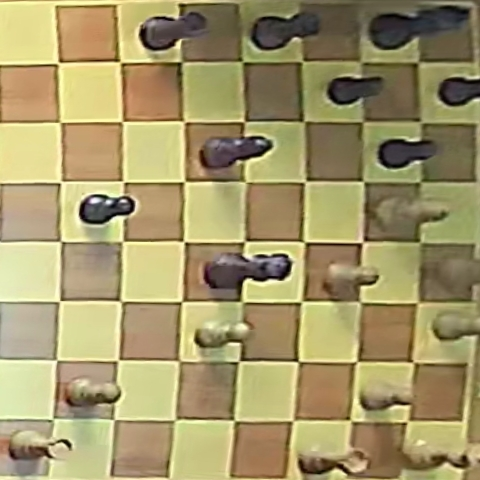black-king: (370, 5, 469, 50)
black-pawn: (202, 136, 272, 169), (379, 138, 440, 169), (327, 75, 386, 106), (80, 194, 134, 225), (439, 75, 480, 107)
black-queen: (204, 252, 290, 288)
black-rook: (140, 11, 208, 50), (253, 11, 319, 50)
white-bishop: (372, 195, 449, 232)
white-king: (402, 439, 477, 470)
white-pawn: (323, 263, 378, 298), (67, 378, 121, 407), (195, 321, 252, 348), (362, 381, 414, 409), (432, 311, 479, 340)
white-queen: (434, 254, 480, 295)
white-rook: (300, 447, 371, 475), (9, 430, 72, 461)
